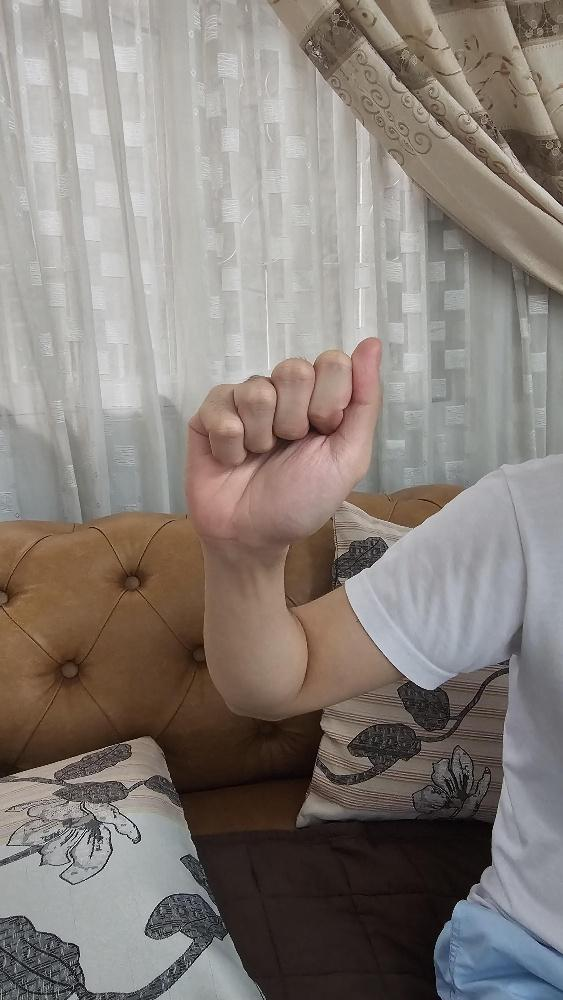a: (183, 334, 384, 543)
